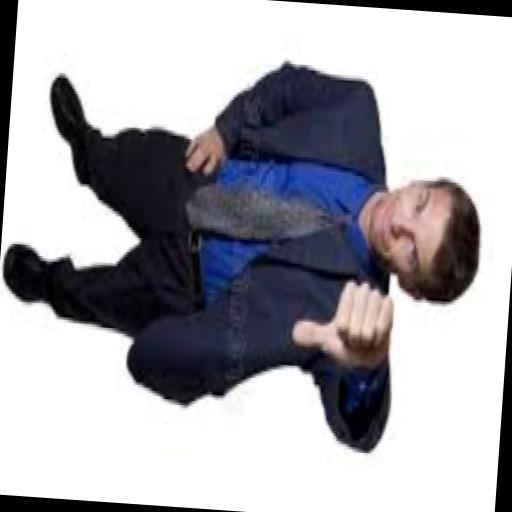Thumbs_Down: (267, 242, 410, 400)
